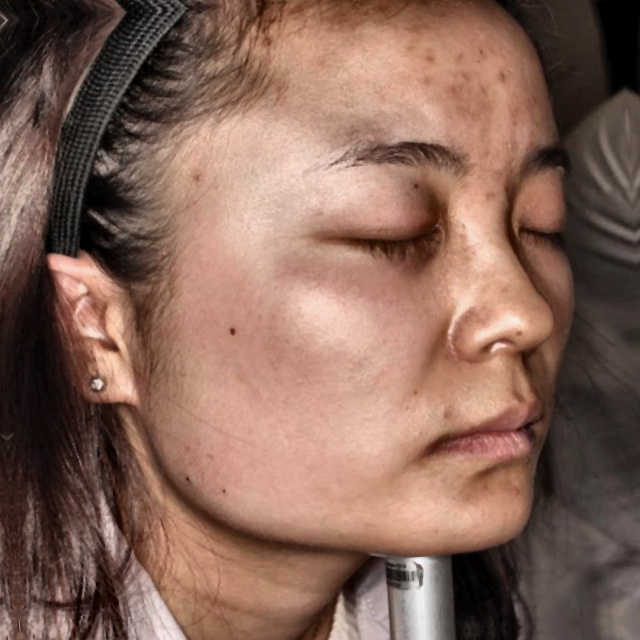comedone: (454, 61, 485, 87), (490, 65, 511, 90)
